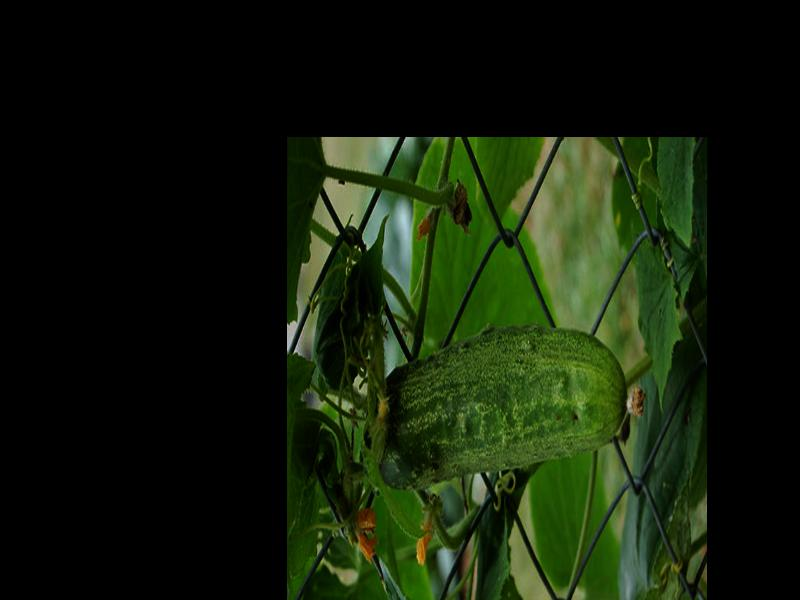Cucumber: (366, 328, 642, 485)
